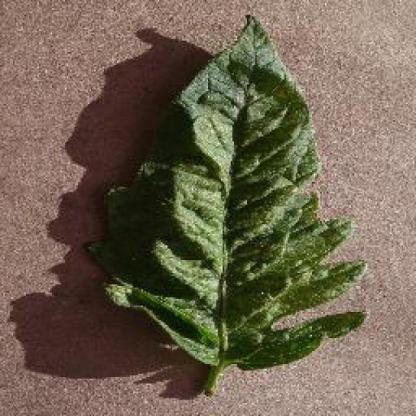Tomato_Spider_Mites: (87, 16, 370, 359)
